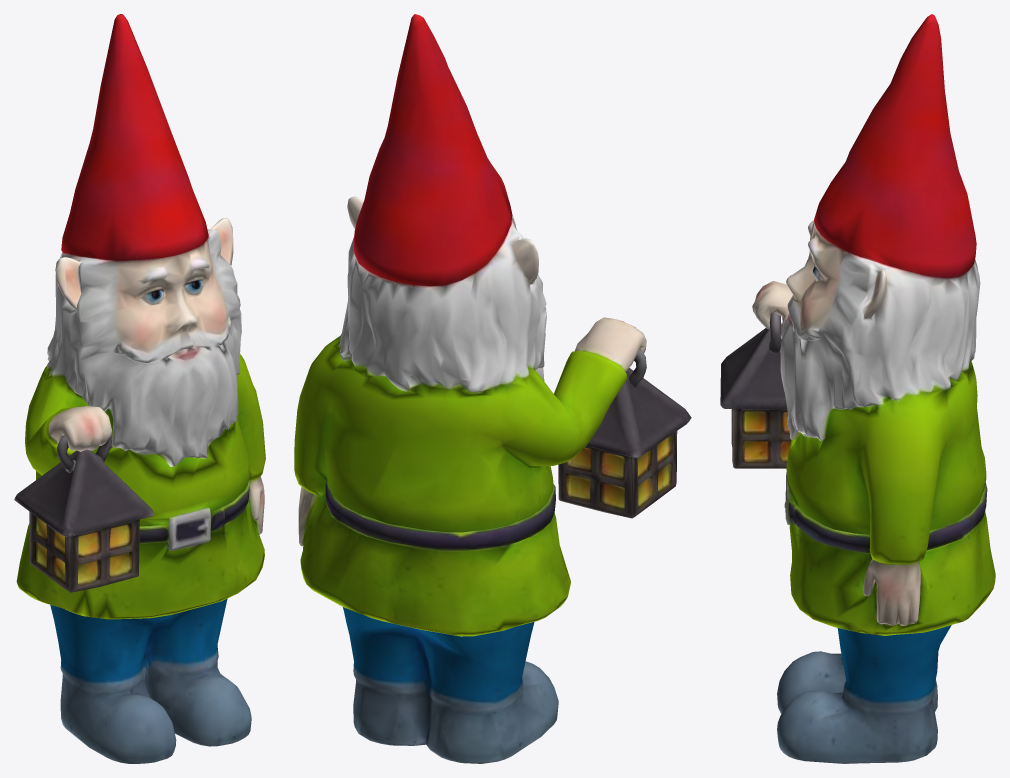
The model's file is garden_gnome.glb.
The picture shows the model from 3 angles, left to right: view 1: azimuth 30°, elevation 25°; view 2: azimuth 150°, elevation 25°; view 3: azimuth 270°, elevation 25°; orthographic projection. The views are drawn at different scales.
Visible parts, largest first — view 1: garden_gnome; view 2: garden_gnome; view 3: garden_gnome.
Boxes of the visible parts, x1=… form: garden_gnome: x1=14, y1=14, x2=265, y2=763; garden_gnome: x1=294, y1=14, x2=691, y2=763; garden_gnome: x1=720, y1=14, x2=995, y2=763.
Size of the model in its own units: 0.2574 by 0.5989 by 0.2097.
1 material, 1 textured.
